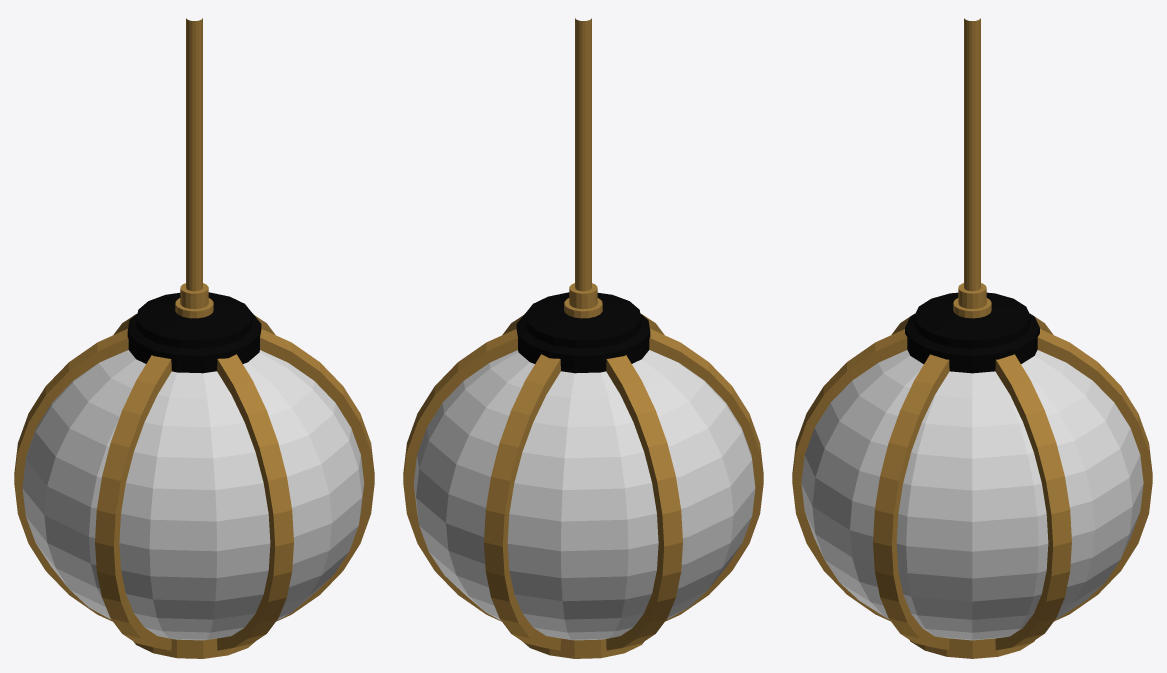
File: LR_ceiling_light.glb
3 views of the same model, side by side, from view 1: azimuth 30°, elevation 25°; view 2: azimuth 150°, elevation 25°; view 3: azimuth 270°, elevation 25° (orthographic).
Parts seen in each view (by area): view 1: light_glass, light_frame; view 2: light_glass, light_frame; view 3: light_glass, light_frame.
Part boxes in pixels (x1,y1,x2,y2): light_glass: (22, 350, 364, 640); light_frame: (14, 18, 374, 658); light_glass: (413, 350, 755, 640); light_frame: (403, 18, 763, 658); light_glass: (801, 329, 1143, 640); light_frame: (792, 18, 1152, 658).
Size of the model in its own units: 2 by 3.9 by 2.08.
